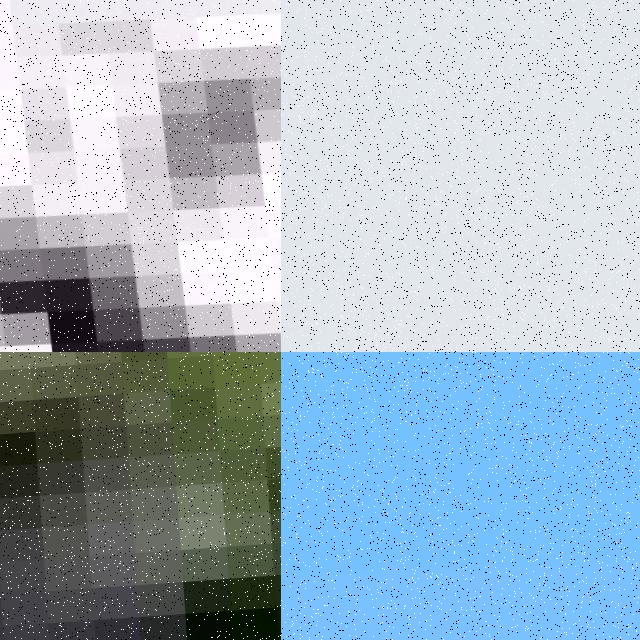0: (0, 0, 281, 352)
drone: (281, 352, 640, 640)
